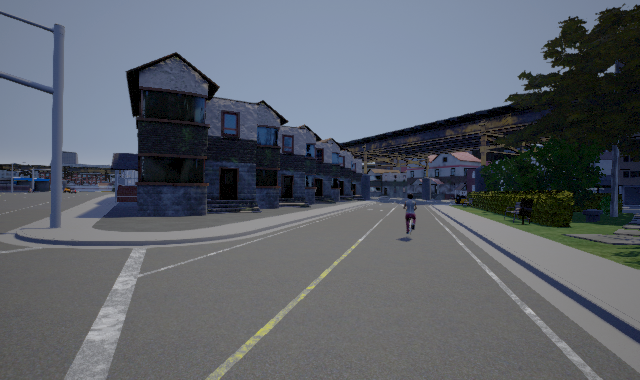bike: (398, 195, 419, 242)
